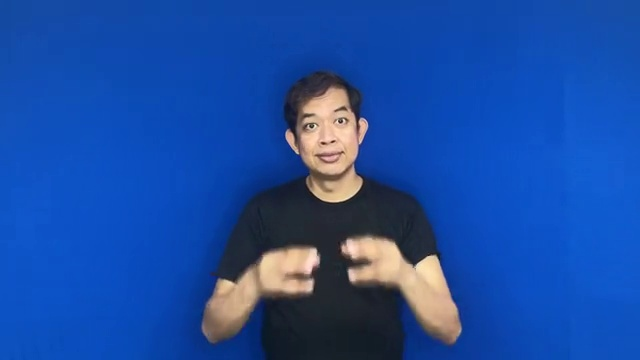egg: (247, 232, 410, 301)
